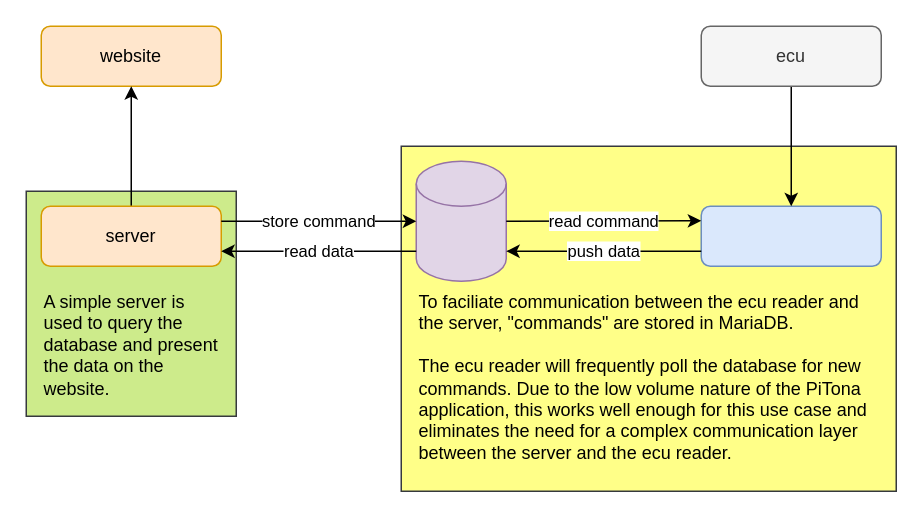
The diagram is 923 pixels wide and 518 high, and some of its shapes have lost their labels. Here are the shapes that lost their labels. From the top down, the centre of each, then its label:
At (460,220): "MariaDB".
At (790,235): "ecu reader".
